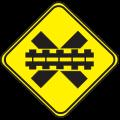Barrier Ahead: (13, 10, 110, 109)
